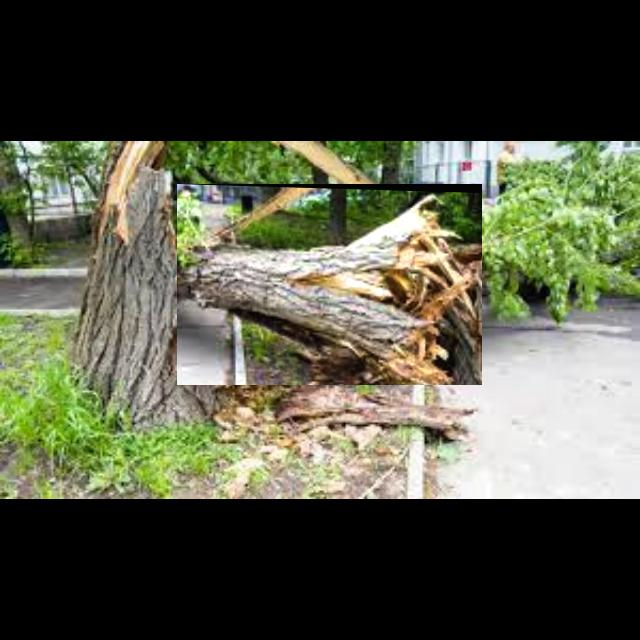Fallen Tree: (177, 184, 483, 386)
